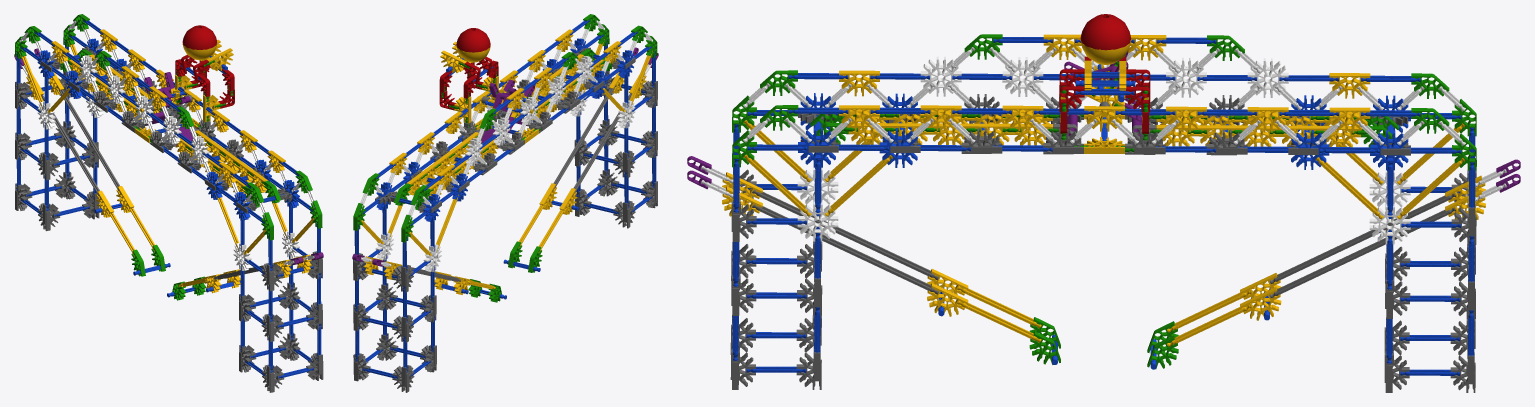
The picture shows the model from 3 angles, left to right: view 1: azimuth 30°, elevation 25°; view 2: azimuth 150°, elevation 25°; view 3: azimuth 270°, elevation 25°; orthographic projection. The views are drawn at different scales.
Parts seen in each view (by area): view 1: P4_L06; view 2: P4_L06; view 3: P4_L06.
Boxes of the visible parts, box(x1,y1,x2,y2) form: P4_L06: box(14, 14, 323, 392); P4_L06: box(352, 14, 658, 392); P4_L06: box(687, 14, 1520, 392).
Bounding box in the file's own units: 1.03 × 2.98 × 5.91.
